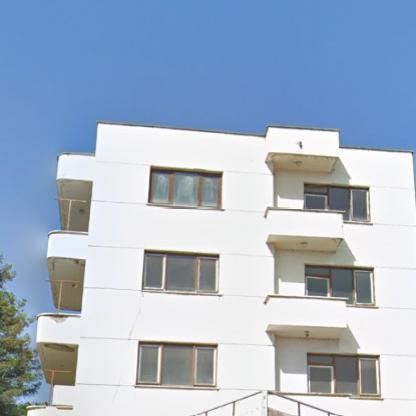window: (137, 345, 215, 387), (308, 354, 380, 396), (143, 254, 218, 293), (150, 172, 221, 207), (306, 267, 373, 304), (304, 185, 370, 221)
